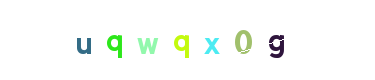0: (172, 0, 252, 80)
G: (237, 0, 317, 80)
Q: (76, 0, 156, 80), (147, 0, 227, 80)
U: (67, 0, 147, 80)
W: (143, 0, 223, 80)
X: (157, 0, 237, 80)
